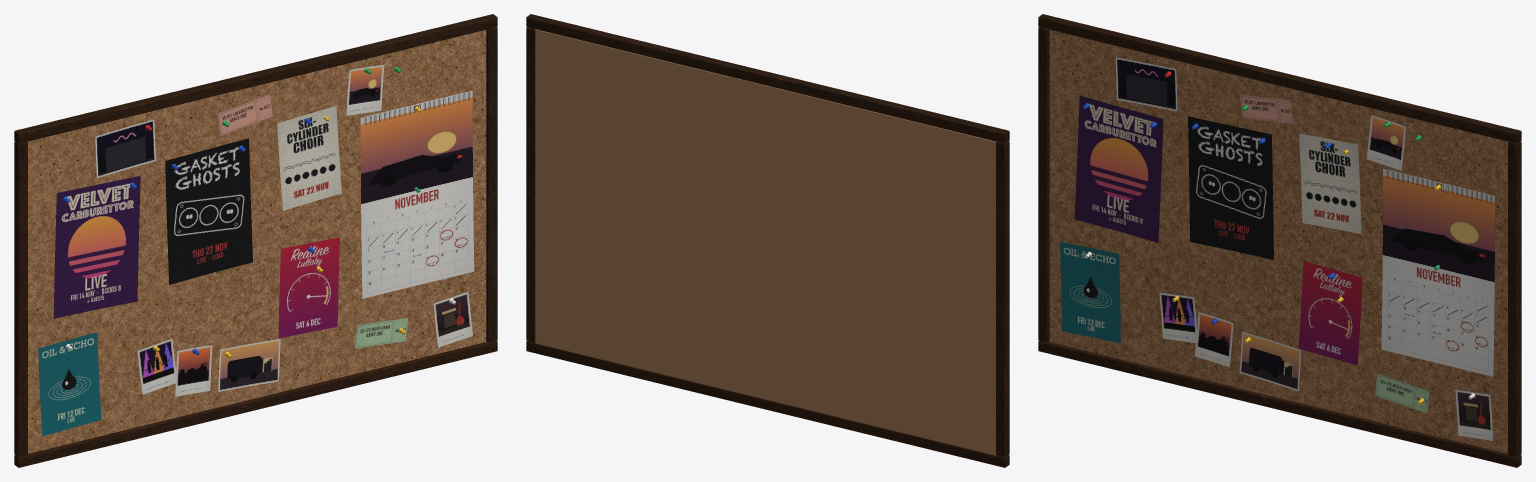
The model's file is corkboard.glb.
3 renders of one model, left to right at view 1: azimuth 30°, elevation 25°; view 2: azimuth 150°, elevation 25°; view 3: azimuth 330°, elevation 25°, orthographic.
Visible parts, largest first — view 1: corkboard; view 2: corkboard; view 3: corkboard.
Boxes of the visible parts, <box> form: corkboard: <box>14,14,497,467</box>; corkboard: <box>526,14,1009,467</box>; corkboard: <box>1038,14,1521,467</box>.
Size of the model in its own units: 1.2 by 0.8 by 0.0296.
Materials: 1 (1 with a texture image).
